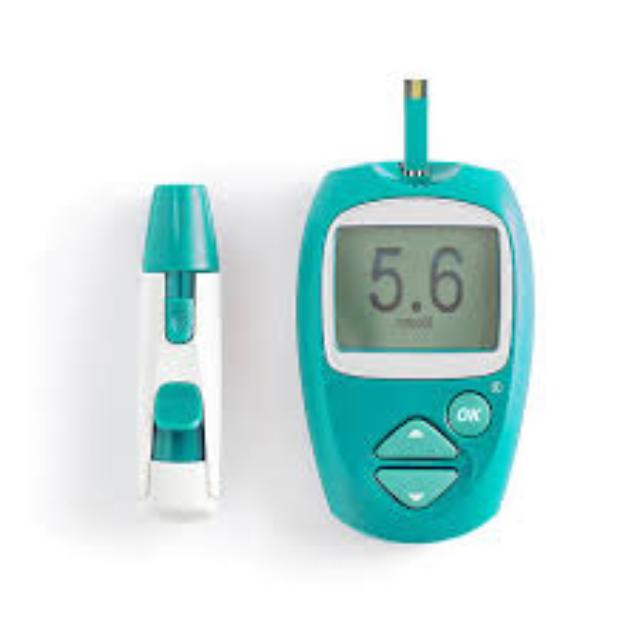Glucose-Meter: (299, 80, 532, 541)
